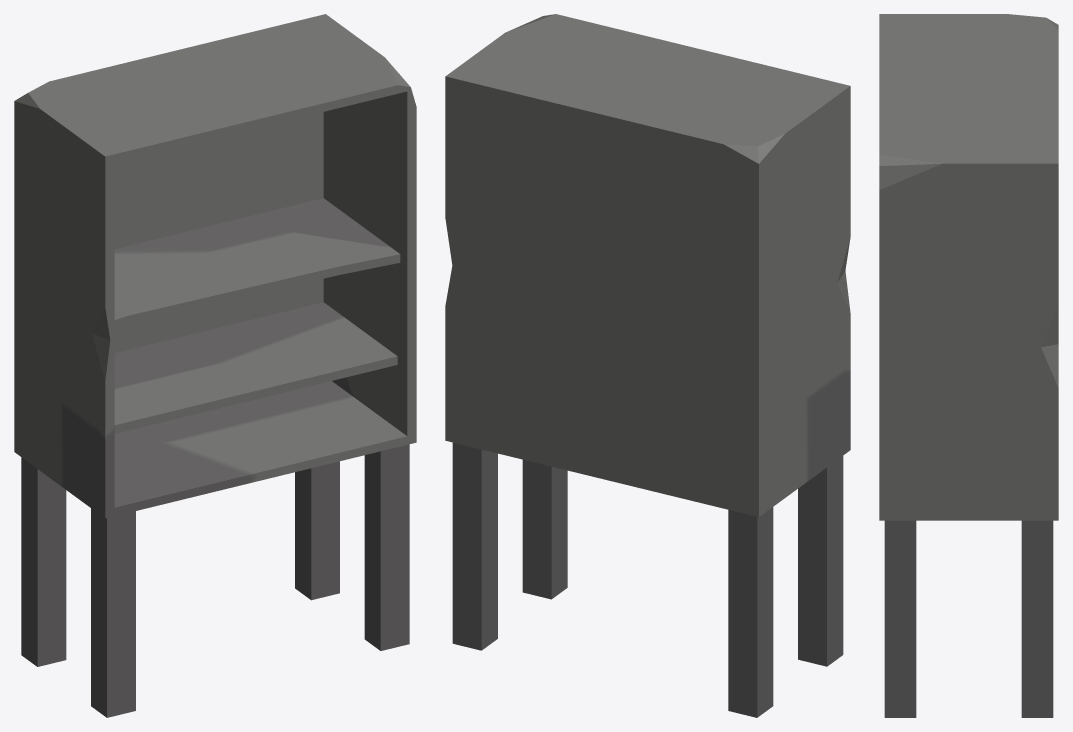
The model's file is SM_Prop_Cabinet_Small_01.fbx.
The picture shows the model from 3 angles, left to right: view 1: azimuth 30°, elevation 25°; view 2: azimuth 150°, elevation 25°; view 3: azimuth 270°, elevation 25°; orthographic projection. The views are drawn at different scales.
Parts seen in each view (by area): view 1: SM_Prop_Cabinet_Small_01; view 2: SM_Prop_Cabinet_Small_01; view 3: SM_Prop_Cabinet_Small_01.
Boxes of the visible parts, <box> form: SM_Prop_Cabinet_Small_01: <box>14,14,416,717</box>; SM_Prop_Cabinet_Small_01: <box>445,14,850,717</box>; SM_Prop_Cabinet_Small_01: <box>879,14,1058,717</box>.
Bounding box in the file's own units: 105 × 182 × 53.18.
